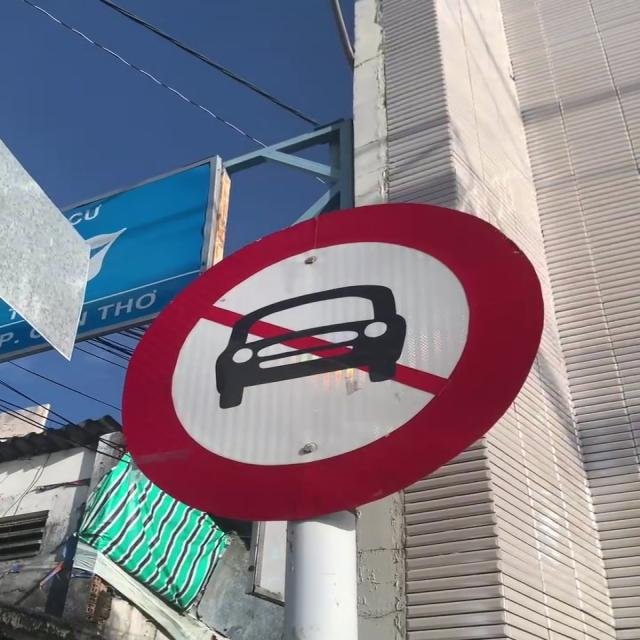Cam_O_To: (118, 202, 547, 526)
